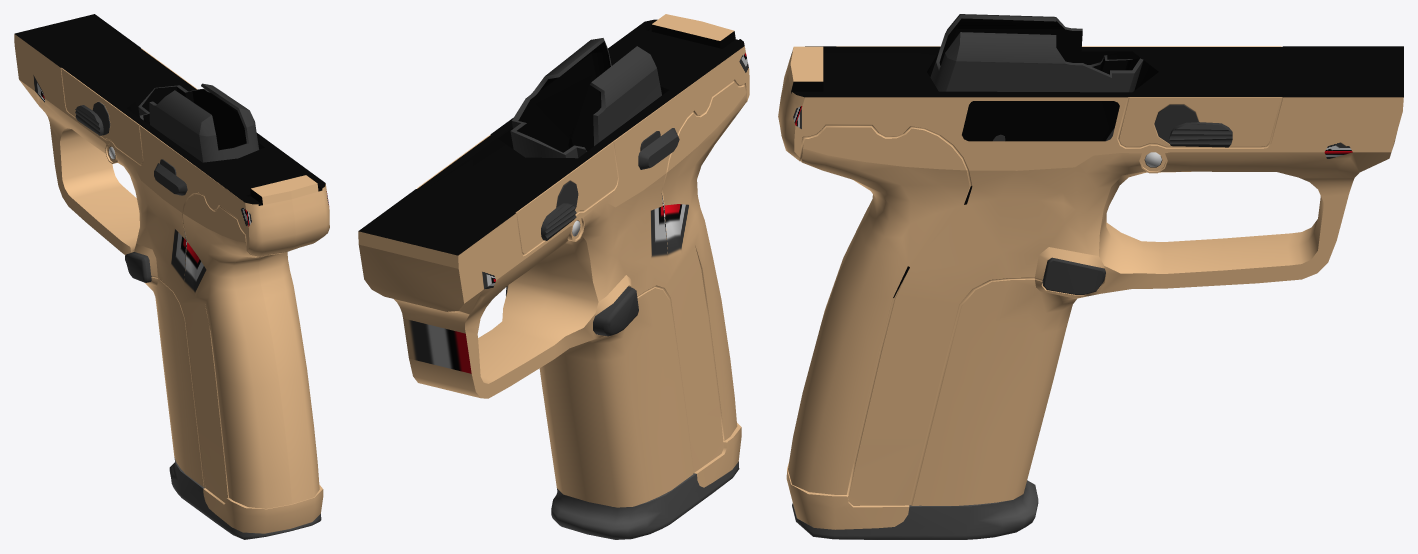
File: halfpistol.glb
The picture shows the model from 3 angles, left to right: view 1: azimuth 30°, elevation 25°; view 2: azimuth 150°, elevation 25°; view 3: azimuth 270°, elevation 25°; orthographic projection. The views are drawn at different scales.
Parts seen in each view (by area): view 1: frame_finnal_0, MAG_finnal_0, safety_finnal_0, slidrealise_finnal_0; view 2: frame_finnal_0, MAG_finnal_0, safety_finnal_0, slidrealise_finnal_0; view 3: frame_finnal_0, MAG_finnal_0, safety_finnal_0.
Part boxes in pixels (box(x1,y1,x2,y2)): frame_finnal_0: box(14, 14, 329, 533); MAG_finnal_0: box(138, 83, 321, 539); safety_finnal_0: box(75, 101, 110, 135); slidrealise_finnal_0: box(154, 159, 187, 195); frame_finnal_0: box(358, 14, 749, 507); MAG_finnal_0: box(510, 38, 739, 539); safety_finnal_0: box(541, 181, 578, 240); slidrealise_finnal_0: box(638, 128, 679, 169); frame_finnal_0: box(778, 46, 1403, 529); MAG_finnal_0: box(792, 14, 1143, 539); safety_finnal_0: box(1154, 104, 1232, 147).
Bounding box in the file's own units: 0.7229 × 2.78 × 3.21.
Materials: 1 (1 with a texture image).
